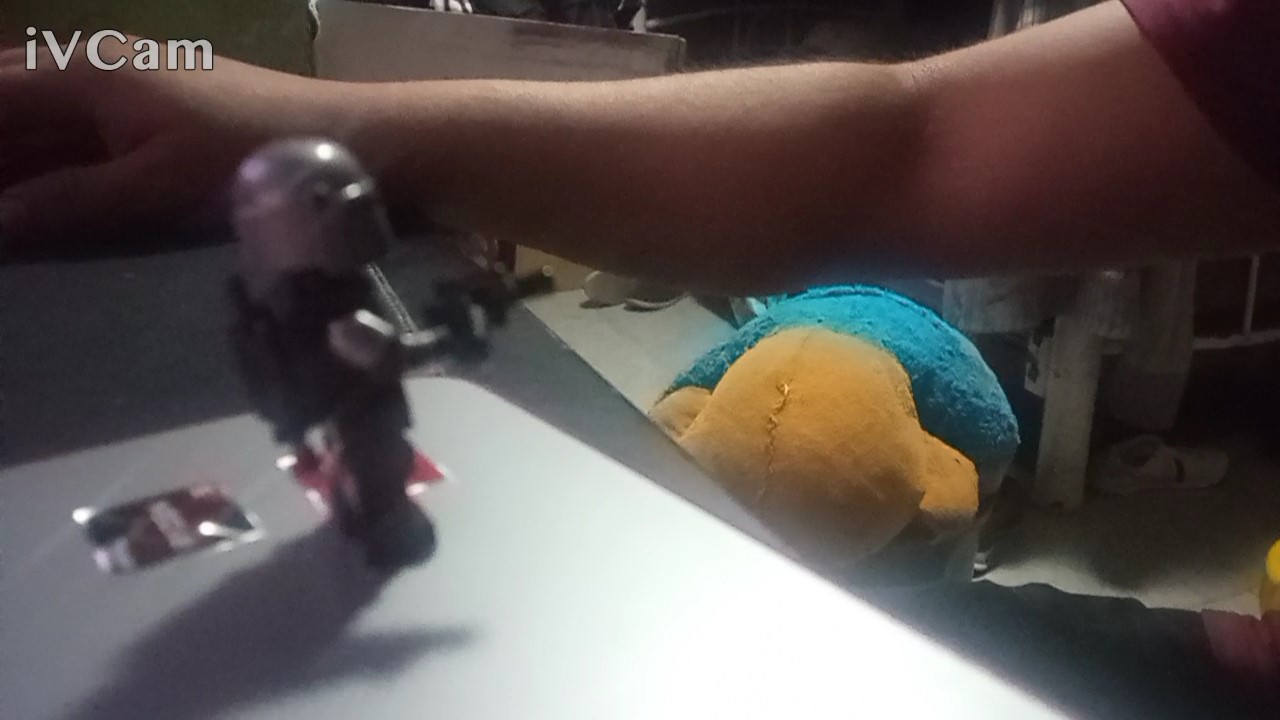mandalorian: (211, 139, 568, 585)
